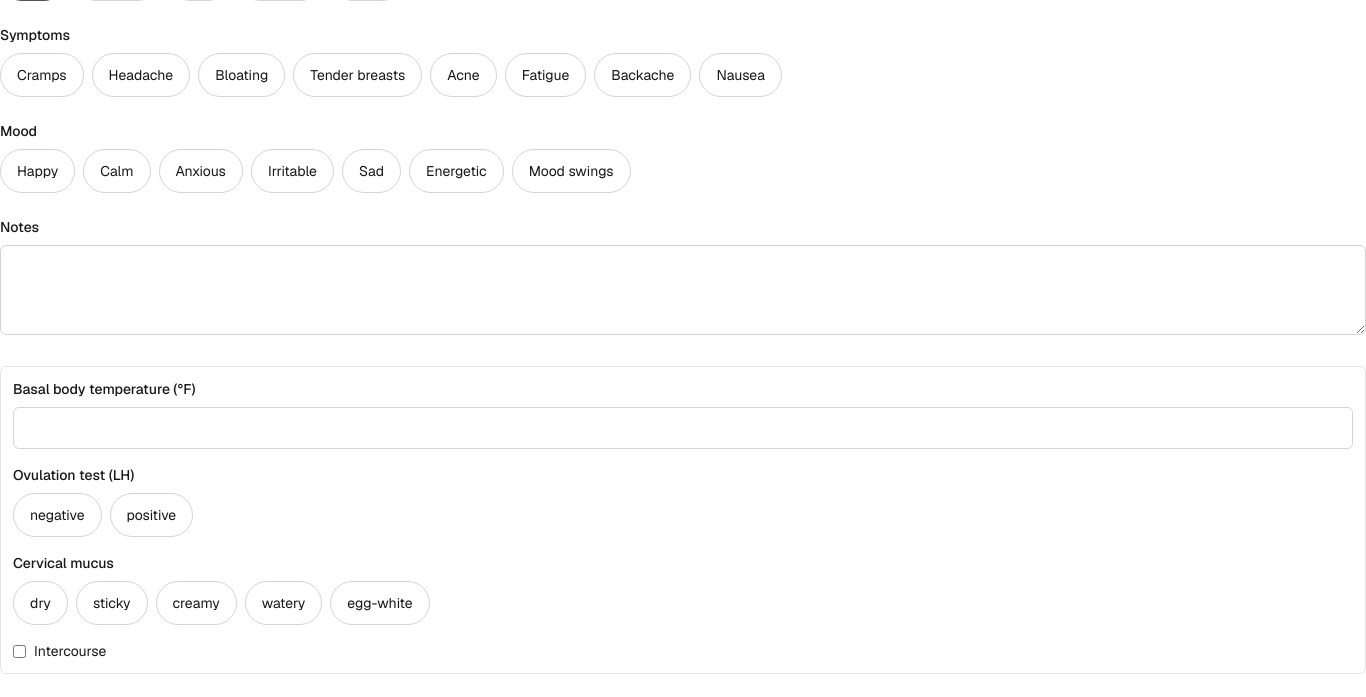
Scenario: DailyLogForm TTC section › persists BBT in Fahrenheit as canonical Celsius
This screenshot has width=1366, height=697.
Step 1. Type "98.6" into the number field labelled "Basal body temperature (°F)" → {"x": 683, "y": 428}, box [13,407,1353,449]
(page scrolled)
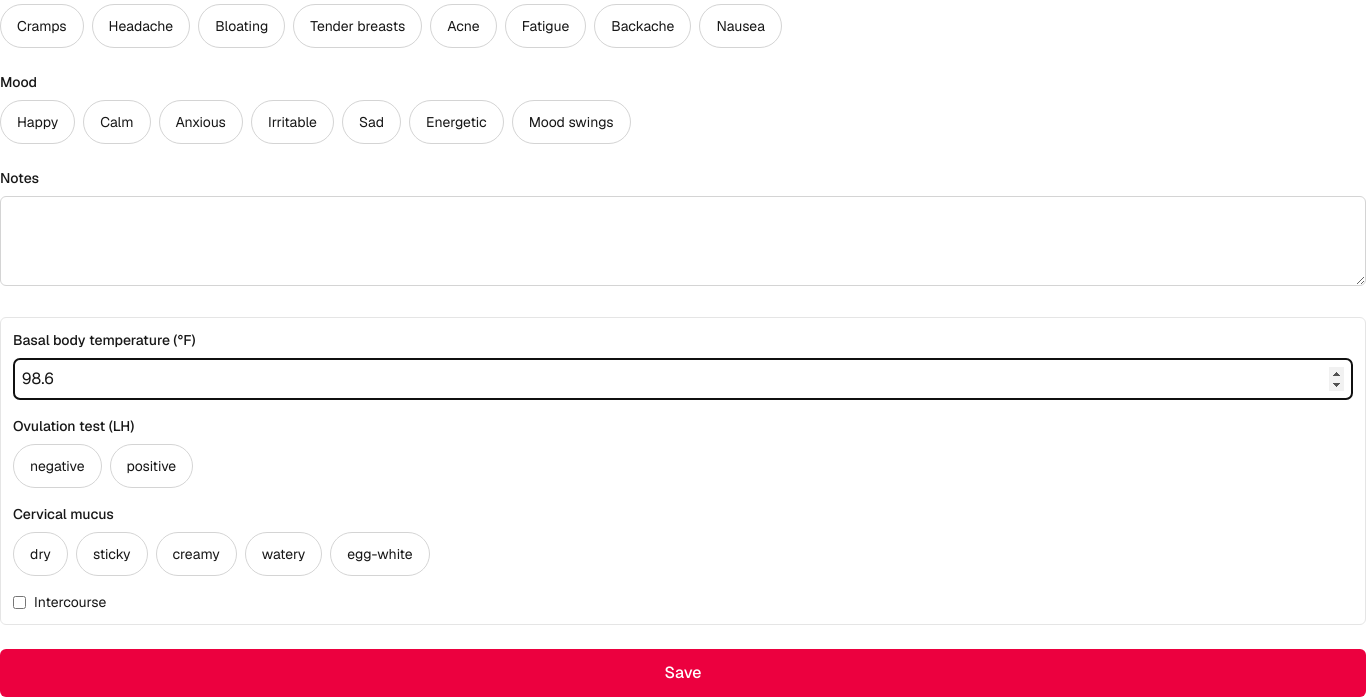
Step 2. Click the button "Save" → {"x": 683, "y": 673}, box [0,649,1365,696]
(page scrolled)
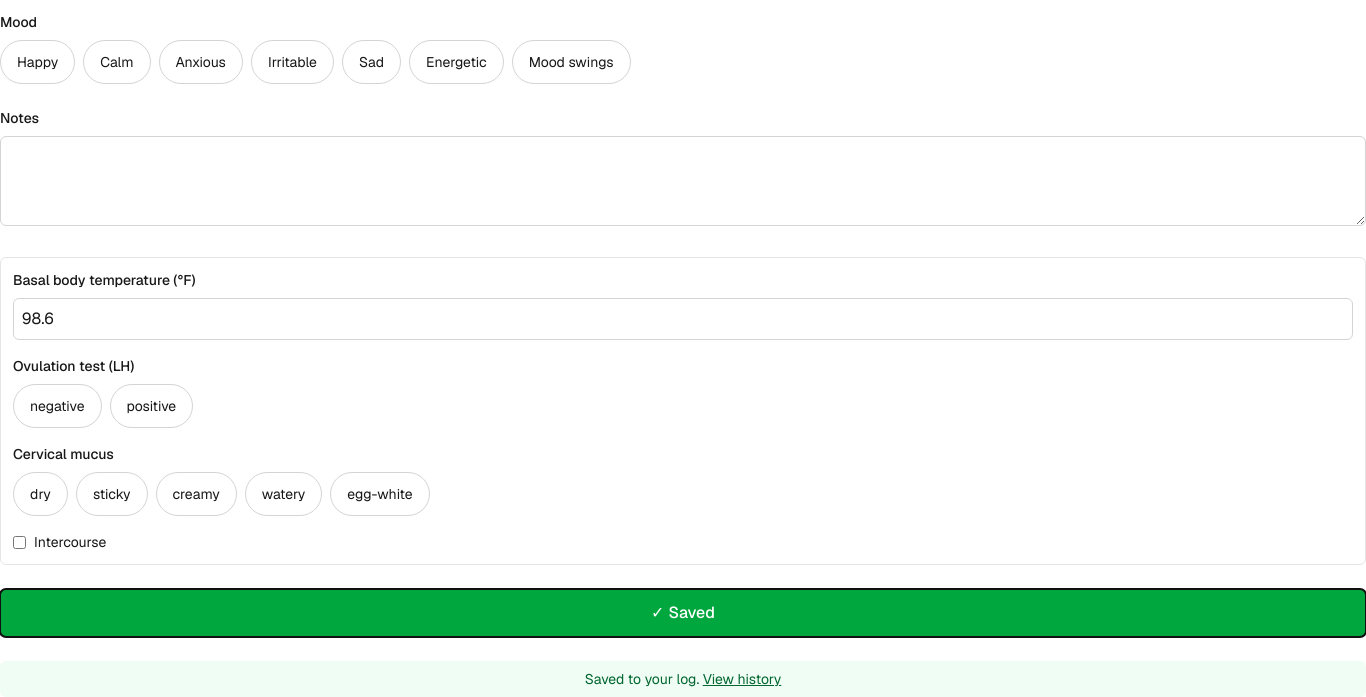
Now the message "Saved to your log. View history" is shown, box [0,661,1365,696]
